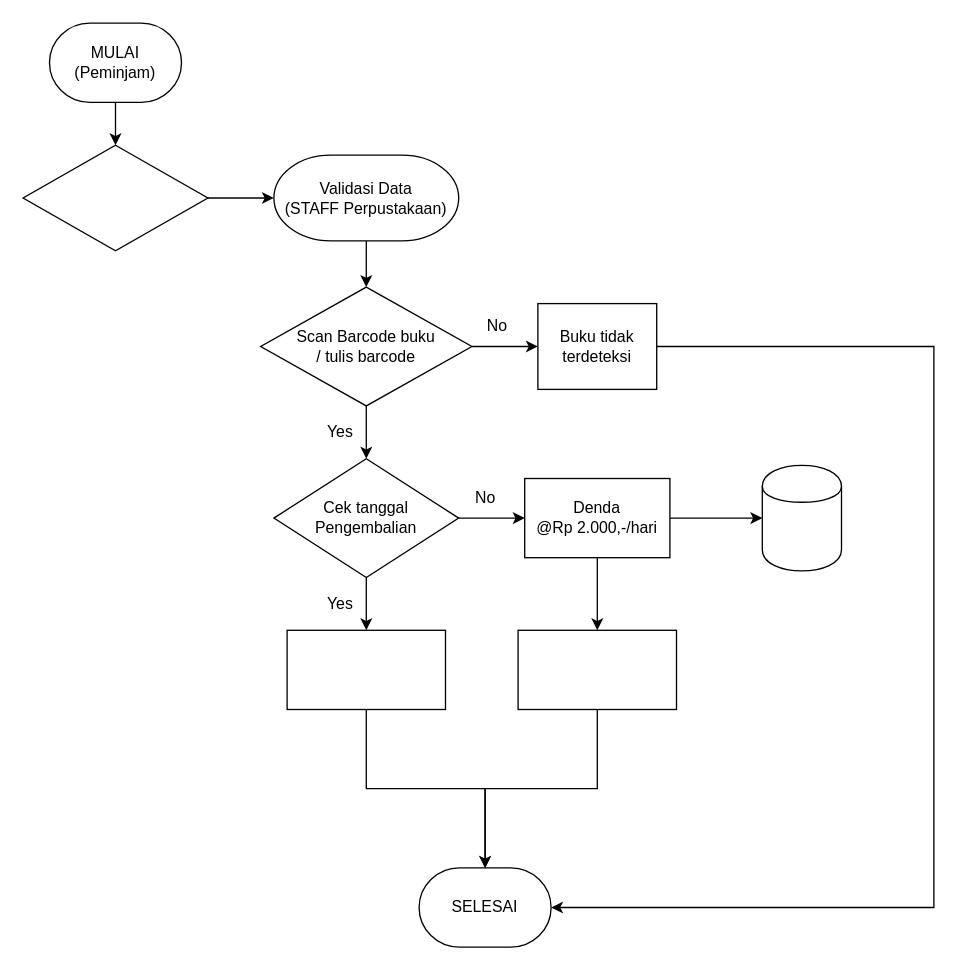
This 968x970 diagram has some shape labels left out. The shapes that lost their labels are listed below. From the top down, each one's centre as x and y in pixels, then its label:
At point 115,197: "Login (Masukkan NIM)".
At point 801,517: "Data Denda".
At point 366,669: "Proses telah selesai".
At point 596,669: "Kwitansi".
